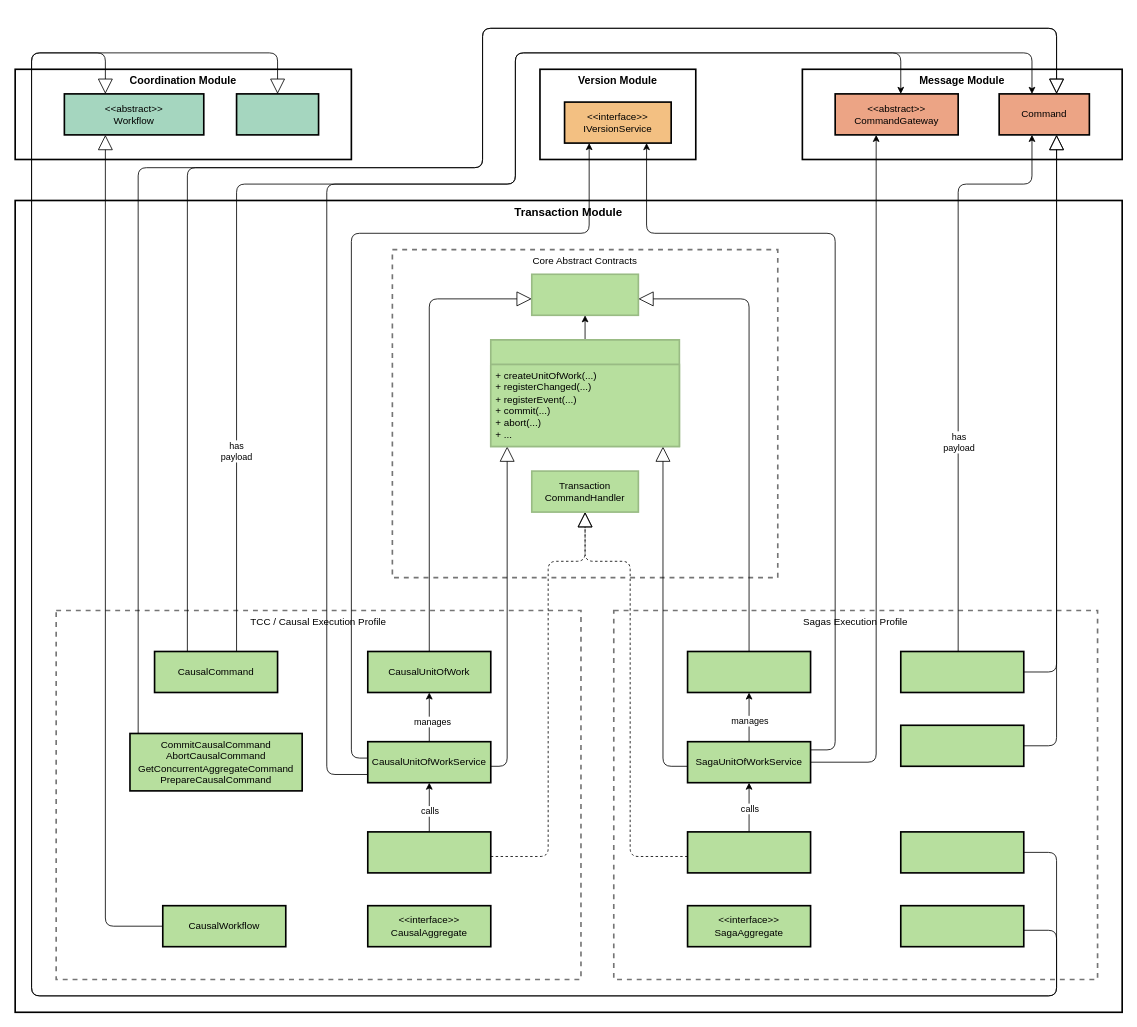
This 1137x1027 diagram has some shape labels left out. Here are the shapes that lost their labels. From the top down, the box of each, then its label:
(235, 93, 319, 135): Step
(531, 273, 639, 316): UnitOfWork
(490, 339, 680, 447): UnitOfWorkService
(686, 650, 811, 693): SagaUnitOfWork
(900, 650, 1024, 693): SagaCommand
(900, 724, 1024, 767): CommitSagaCommand AbortSagaCommand
(367, 831, 491, 873): CausalCommandHandler
(686, 831, 811, 873): SagaCommandHandler
(900, 831, 1024, 873): SagaStep
(900, 904, 1024, 947): SagaWorkflow
